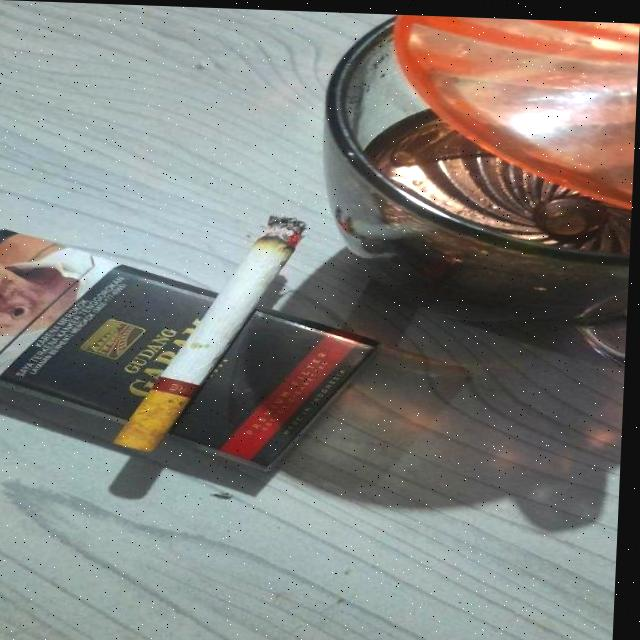cigarette: (120, 207, 309, 456)
